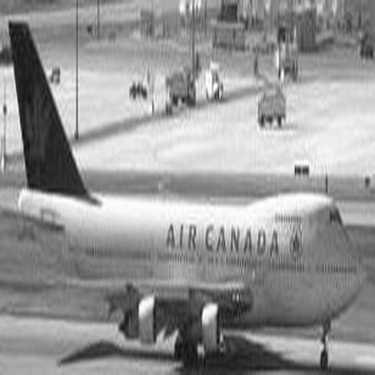airplane: (1, 22, 359, 360)
